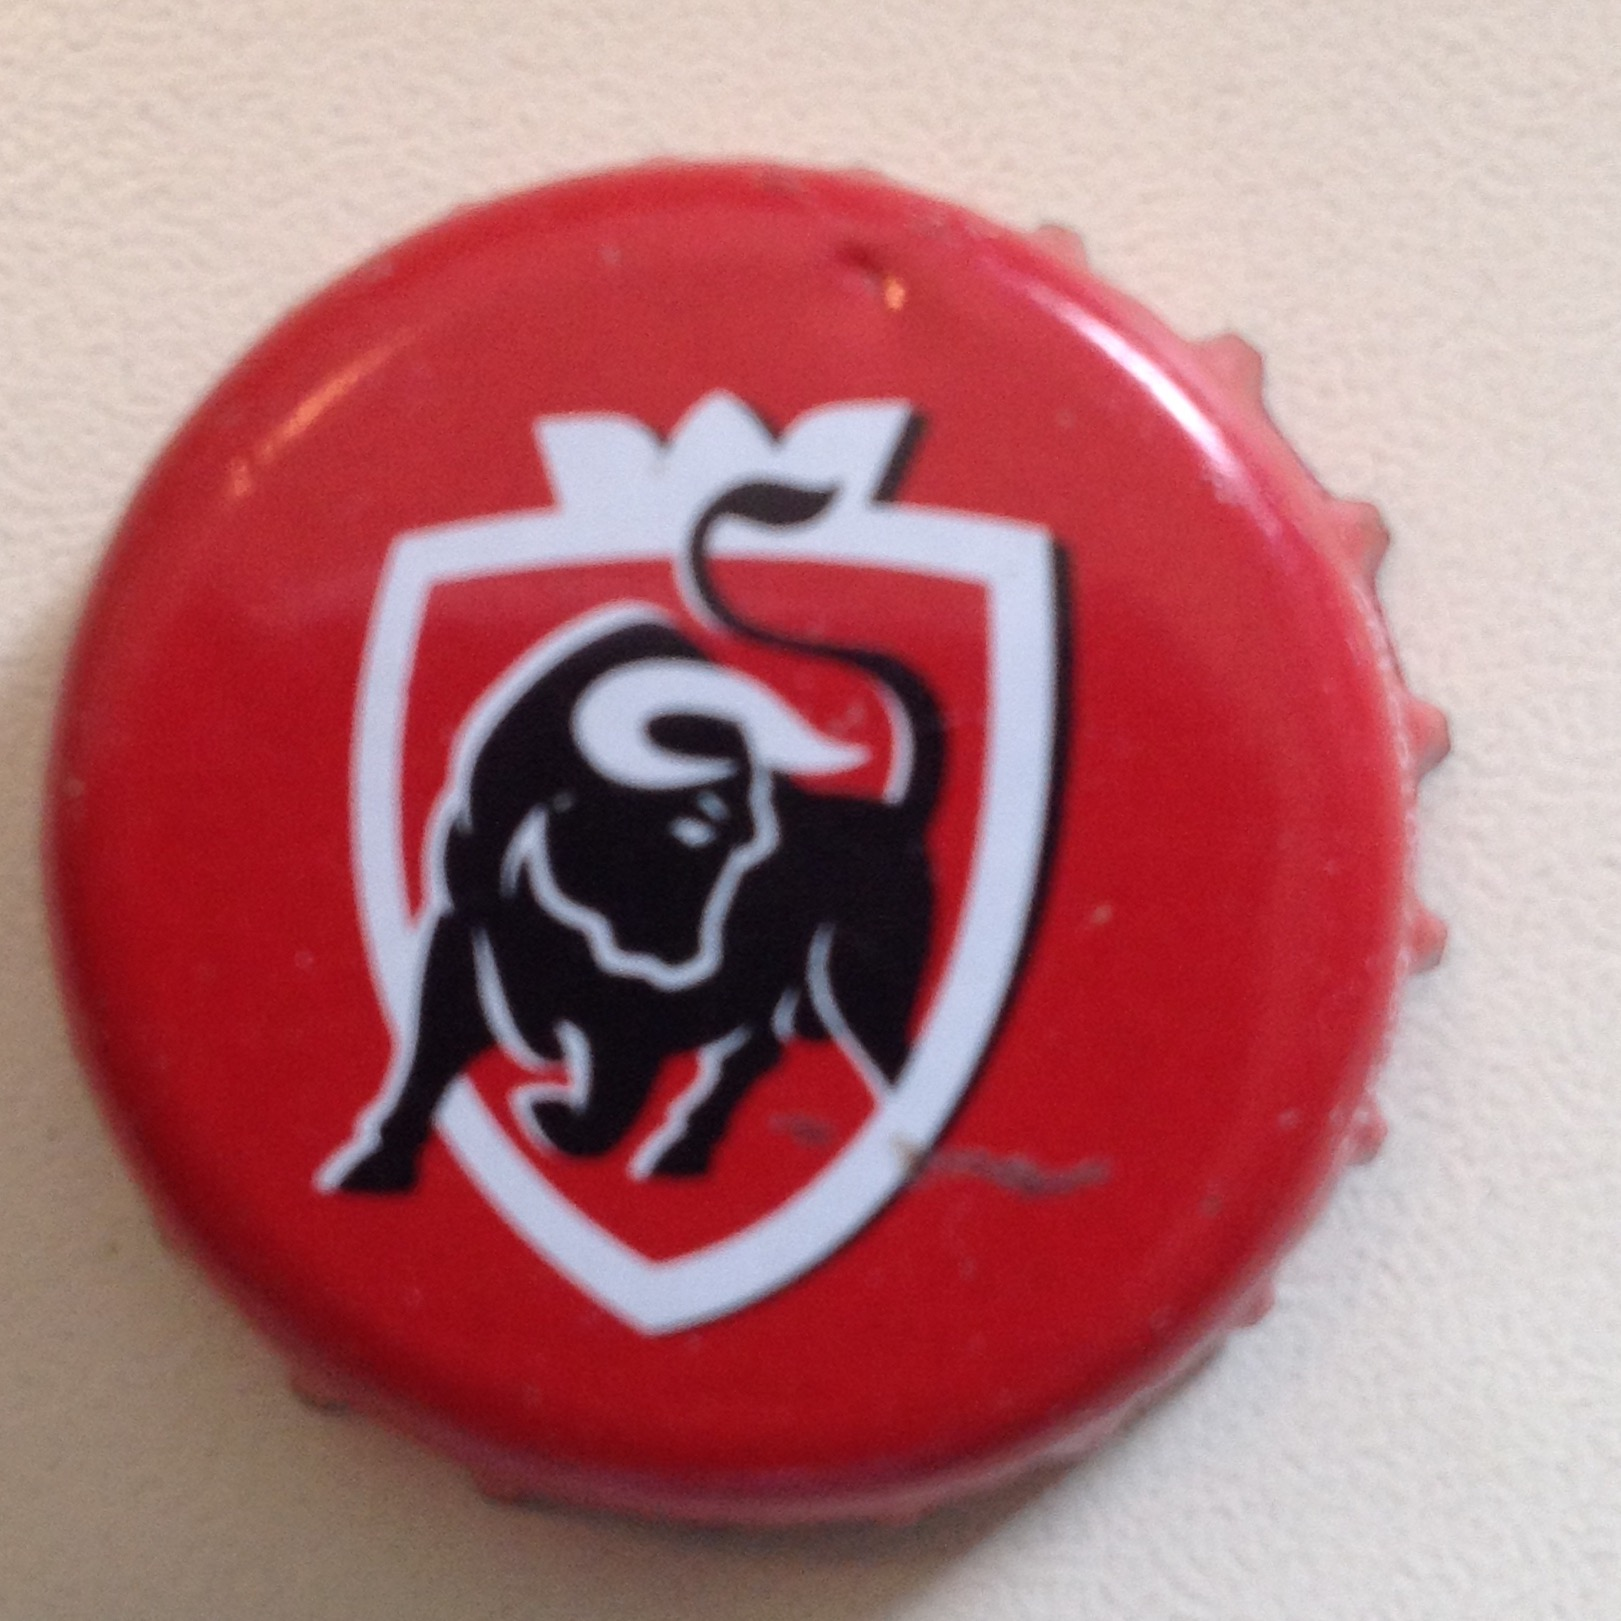jupiler: (33, 145, 1459, 1579)
